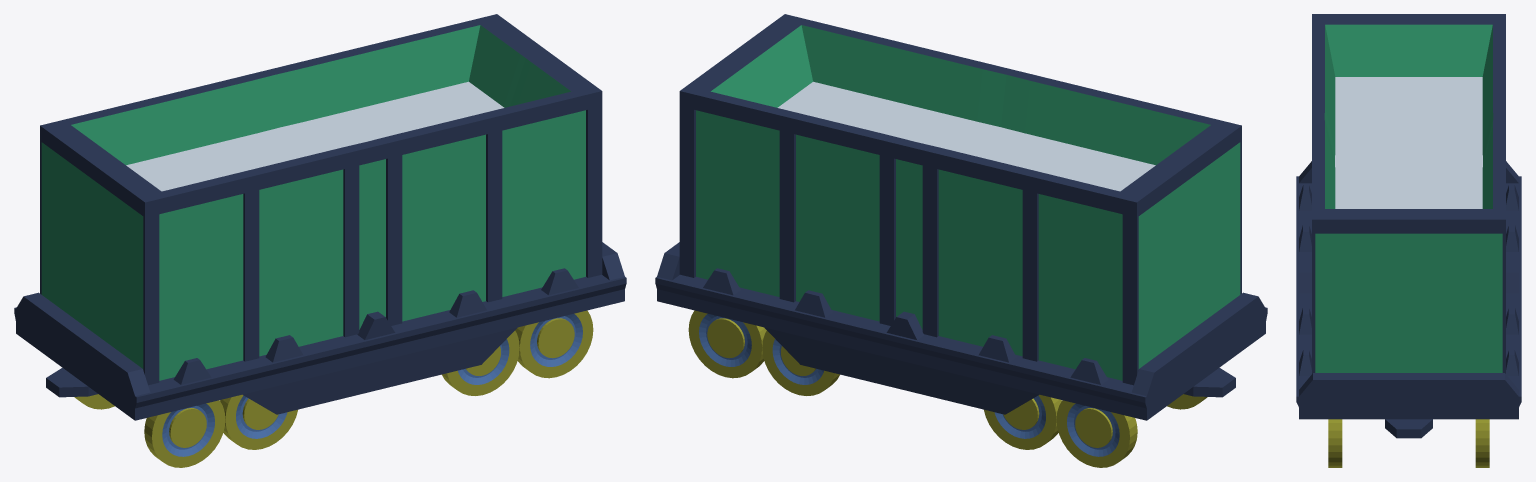
The model's file is CargoWheels04.fbx.
3 renders of one model, left to right at view 1: azimuth 30°, elevation 25°; view 2: azimuth 150°, elevation 25°; view 3: azimuth 270°, elevation 25°, orthographic. The views are drawn at different scales.
Parts seen in each view (by area): view 1: CargoWheels04; view 2: CargoWheels04; view 3: CargoWheels04.
Boxes of the visible parts, <box> form: CargoWheels04: <box>14,14,626,467</box>; CargoWheels04: <box>655,14,1267,467</box>; CargoWheels04: <box>1296,14,1521,467</box>.
Bounding box in the file's own units: 856 × 433 × 339.
